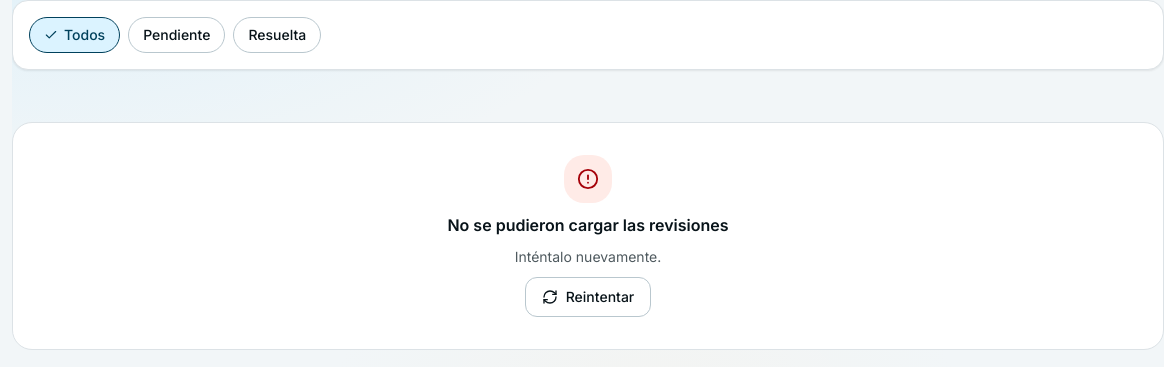
Test: ConsultarRevisionesRealizadas › ante un error muestra el aviso y "Reintentar" vuelve a consultar
Expected: the text "No se pudieron cargar las revisiones" is shown, [447,213,728,237]
Click the button "Reintentar" at point(588, 297), box [525,277,651,317]
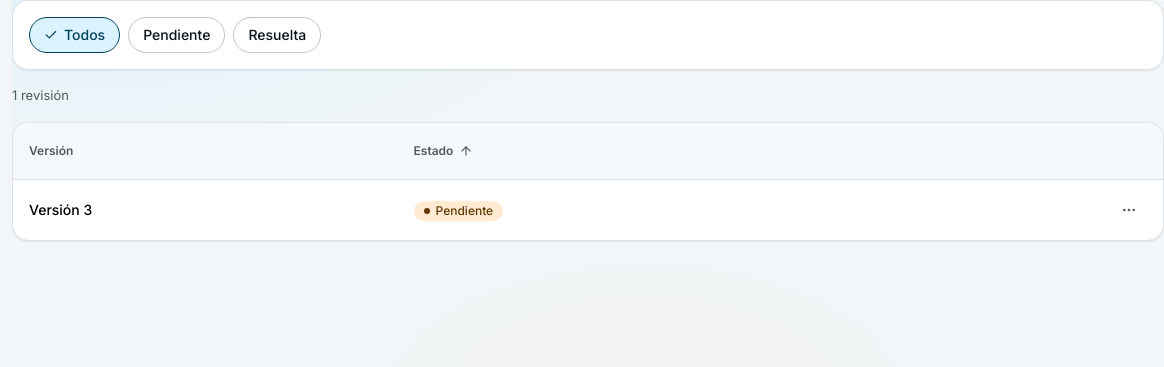
Expected: the table named "Revisiones realizadas" is shown, [13,123,1163,240]
